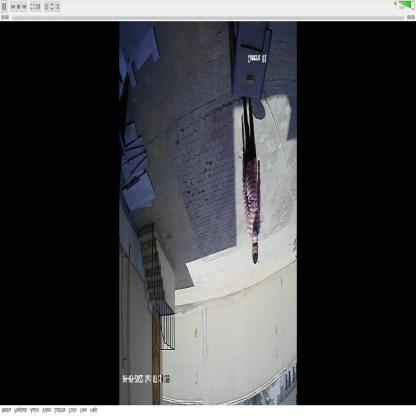handgun: (238, 109, 249, 185)
